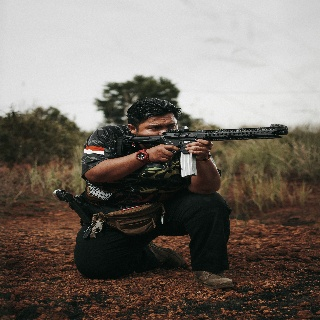rifle: (113, 123, 290, 179)
